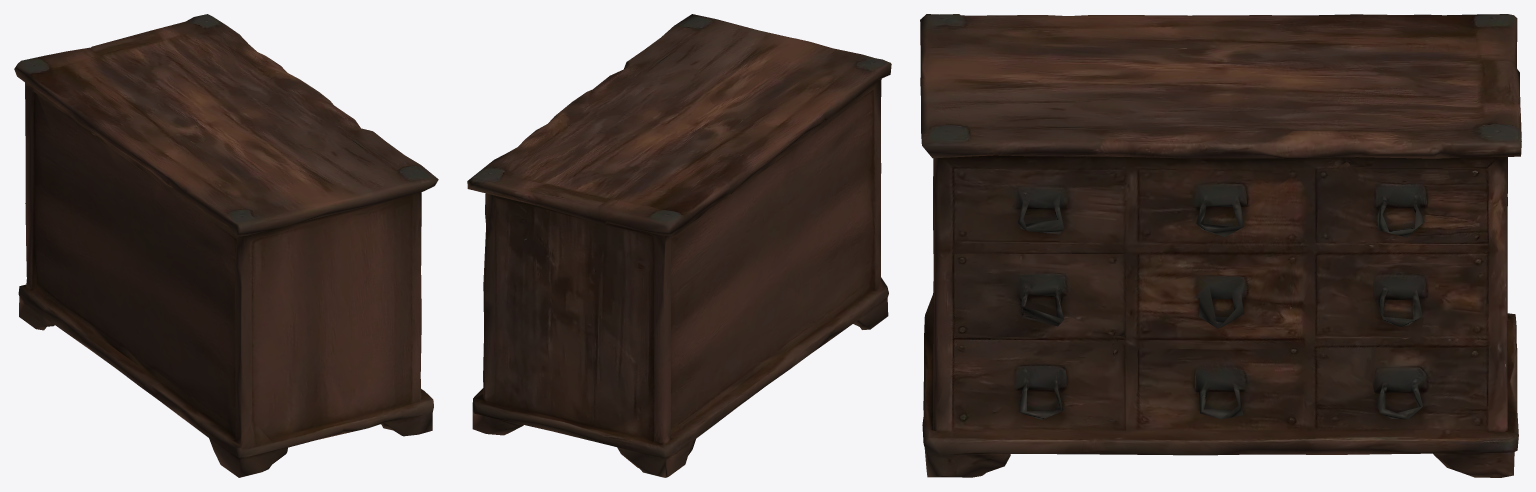
File: tansu.glb
3 views of the same model, side by side, from view 1: azimuth 30°, elevation 25°; view 2: azimuth 150°, elevation 25°; view 3: azimuth 270°, elevation 25° (orthographic). The views are drawn at different scales.
Parts seen in each view (by area): view 1: tripo_node_01eb3971-49e1-4c08-9997-76b1ab92ebc8; view 2: tripo_node_01eb3971-49e1-4c08-9997-76b1ab92ebc8; view 3: tripo_node_01eb3971-49e1-4c08-9997-76b1ab92ebc8.
Part boxes in pixels (left/top/right/bottom): tripo_node_01eb3971-49e1-4c08-9997-76b1ab92ebc8: left=14, top=14, right=438, bottom=477; tripo_node_01eb3971-49e1-4c08-9997-76b1ab92ebc8: left=467, top=14, right=891, bottom=477; tripo_node_01eb3971-49e1-4c08-9997-76b1ab92ebc8: left=920, top=14, right=1521, bottom=477.
Size of the model in its own units: 0.5164 by 0.625 by 1.
Materials: 1 (1 with a texture image).
